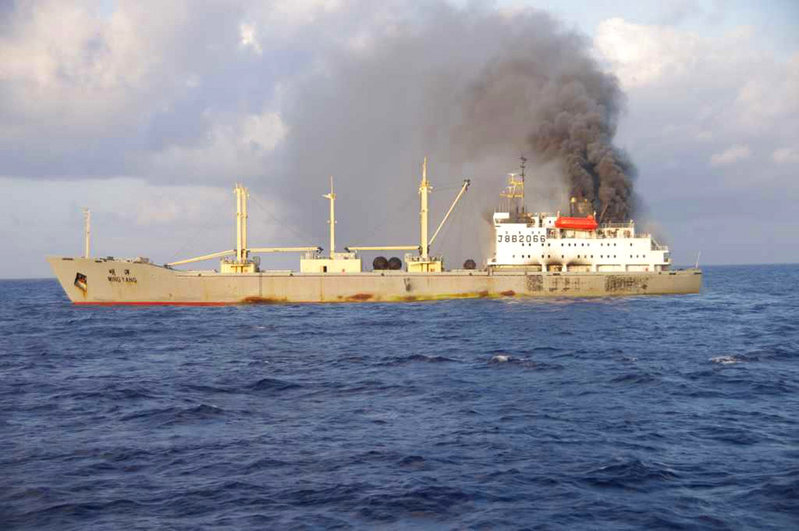Cargoship: (39, 138, 714, 314)
